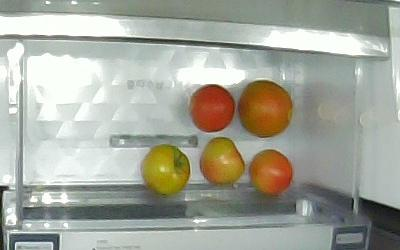tomato: (238, 80, 292, 137), (141, 144, 191, 196), (199, 136, 245, 184), (190, 84, 235, 133), (250, 149, 293, 194)
